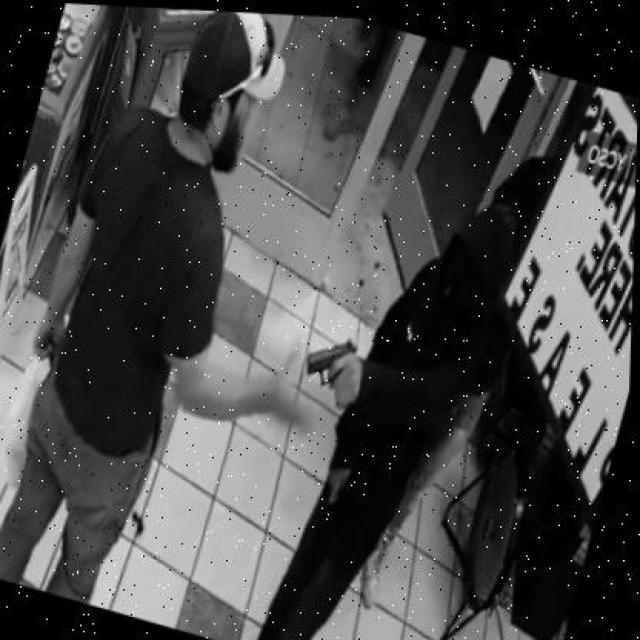weapon: (304, 336, 359, 390)
